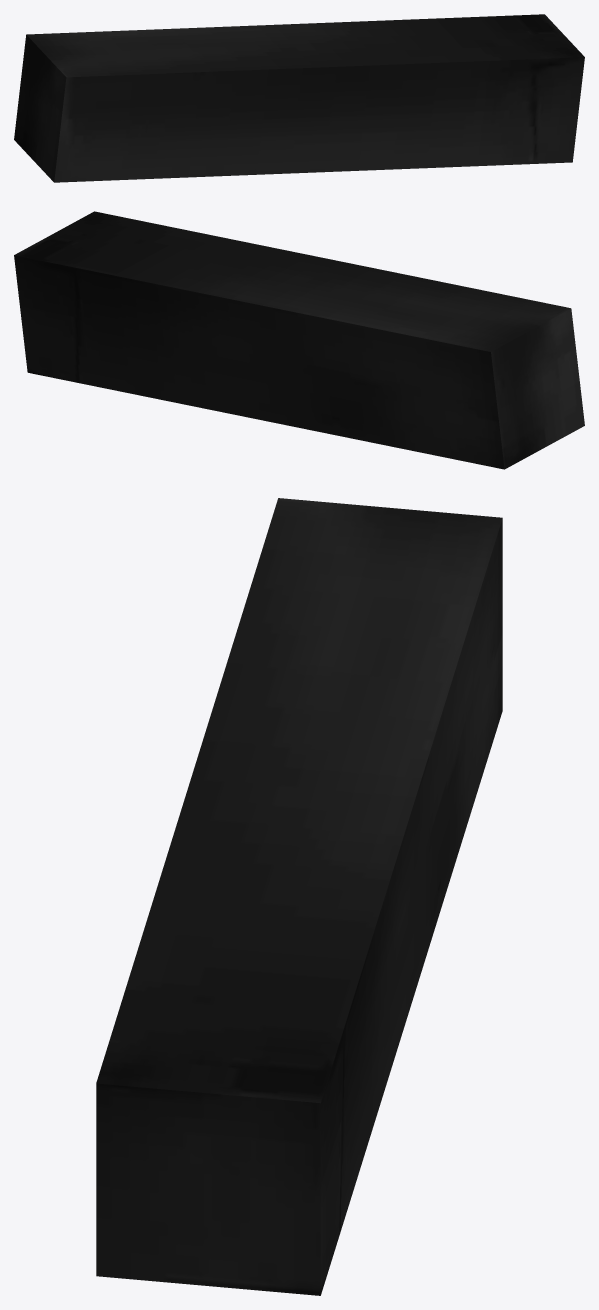
Rendered from frame__front_brace_0.glb.
The picture shows the model from 3 angles, top to bottom: view 1: azimuth 30°, elevation 25°; view 2: azimuth 150°, elevation 25°; view 3: azimuth 270°, elevation 25°; orthographic projection. The views are drawn at different scales.
Visible parts, largest first — view 1: world; view 2: world; view 3: world.
Boxes of the visible parts, x1,y1,x2,y2 form: world: (14, 14, 584, 182); world: (14, 211, 584, 469); world: (96, 498, 502, 1295).
Bounding box in the file's own units: 0.2543 × 0.0806 × 0.0893.
Materials: 1 (1 with a texture image).
